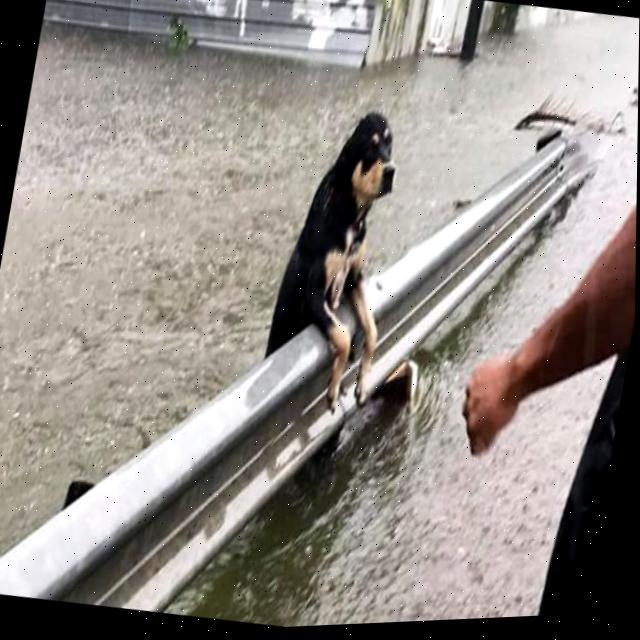dog: (243, 85, 435, 429)
